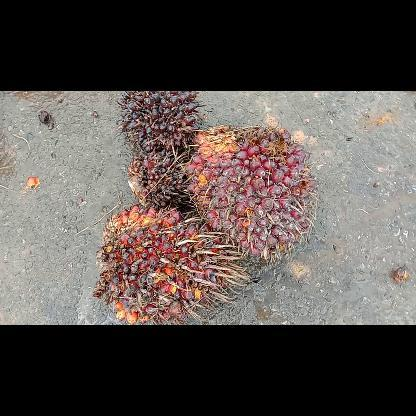TBS abnormal: (113, 92, 204, 164), (124, 148, 196, 210)
TBS masak: (90, 204, 254, 324), (183, 122, 319, 264)
